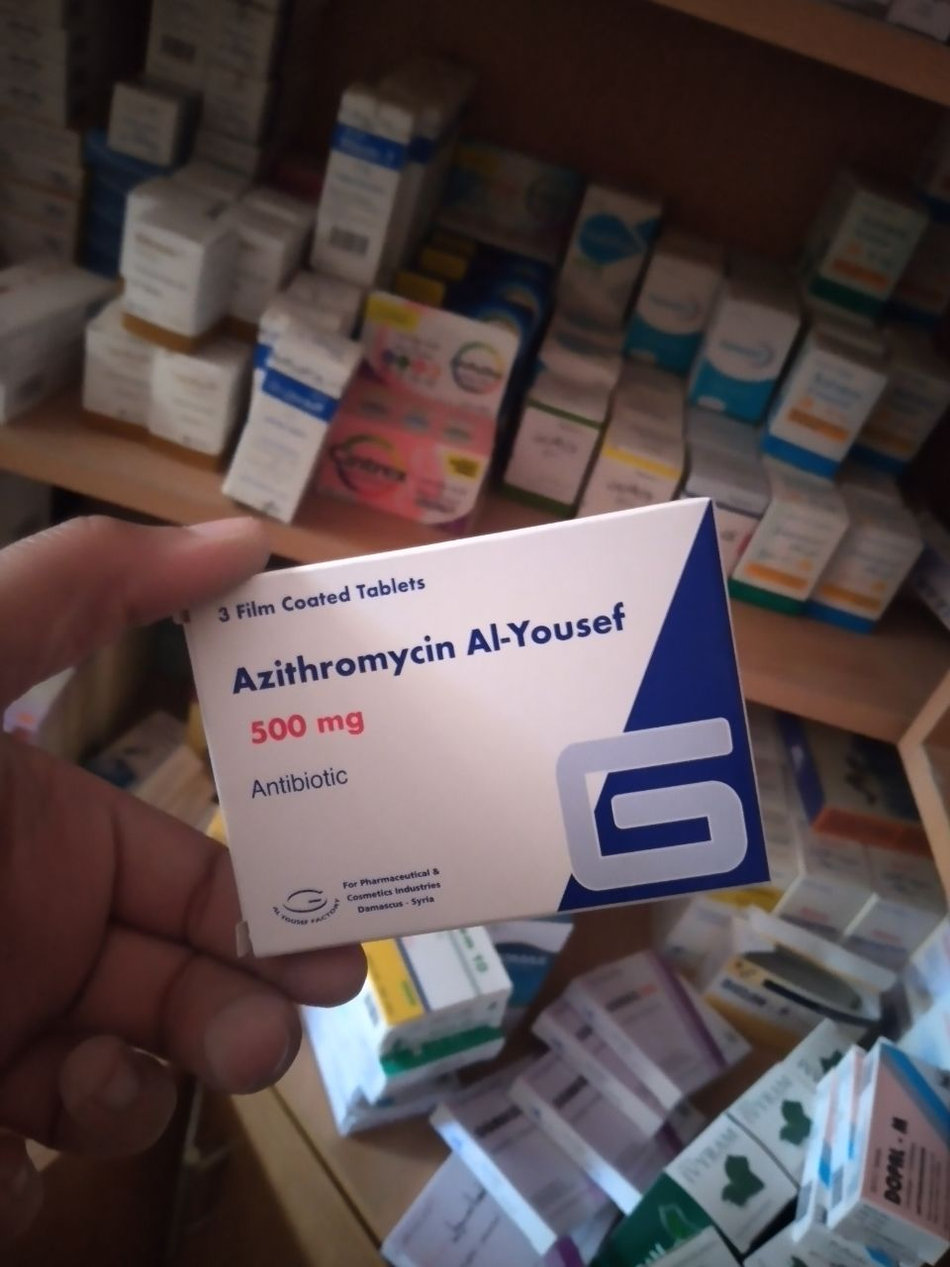Medicine: (195, 518, 782, 960), (455, 1089, 620, 1264), (214, 343, 343, 531), (317, 92, 409, 304), (336, 403, 495, 518), (373, 294, 524, 409), (765, 337, 881, 472), (831, 175, 920, 320), (742, 488, 835, 620), (511, 376, 597, 508), (706, 277, 775, 429), (854, 488, 930, 620), (643, 241, 716, 363)
